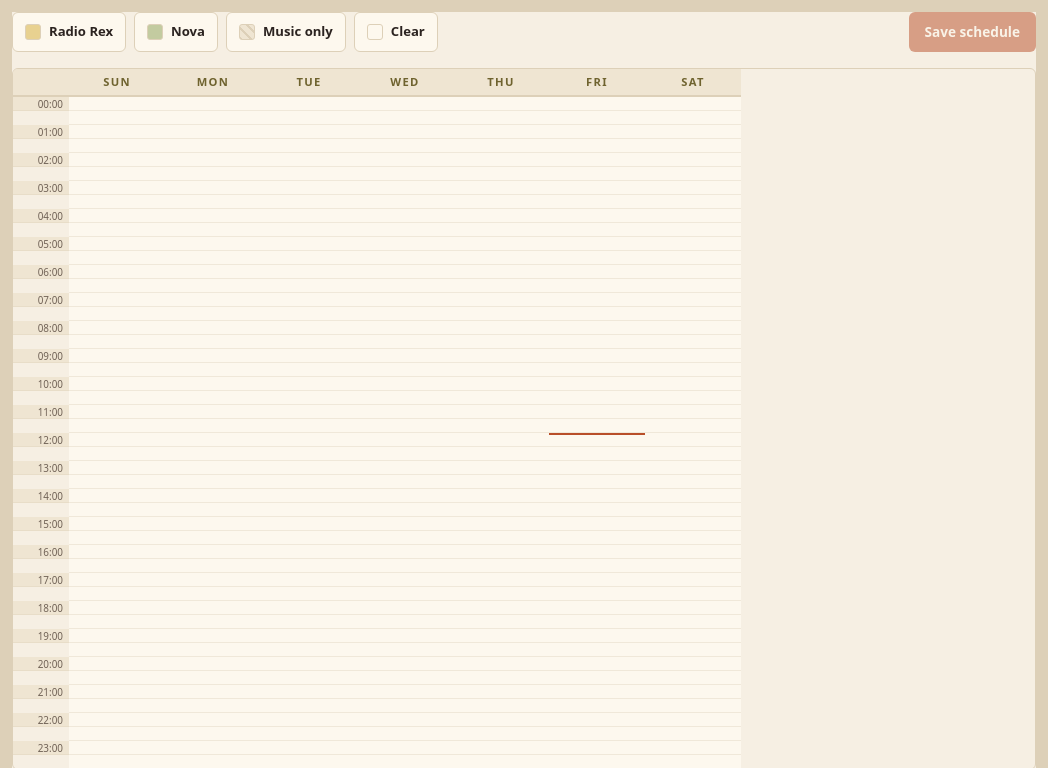
Test: Feature: Paint the week › Scenario: rejections land on cells › per-cell 400 errors highlight the offending blocks in place with the error text
Click the button "Radio Rex". click: x=69, y=32
box: [12,12,126,52]
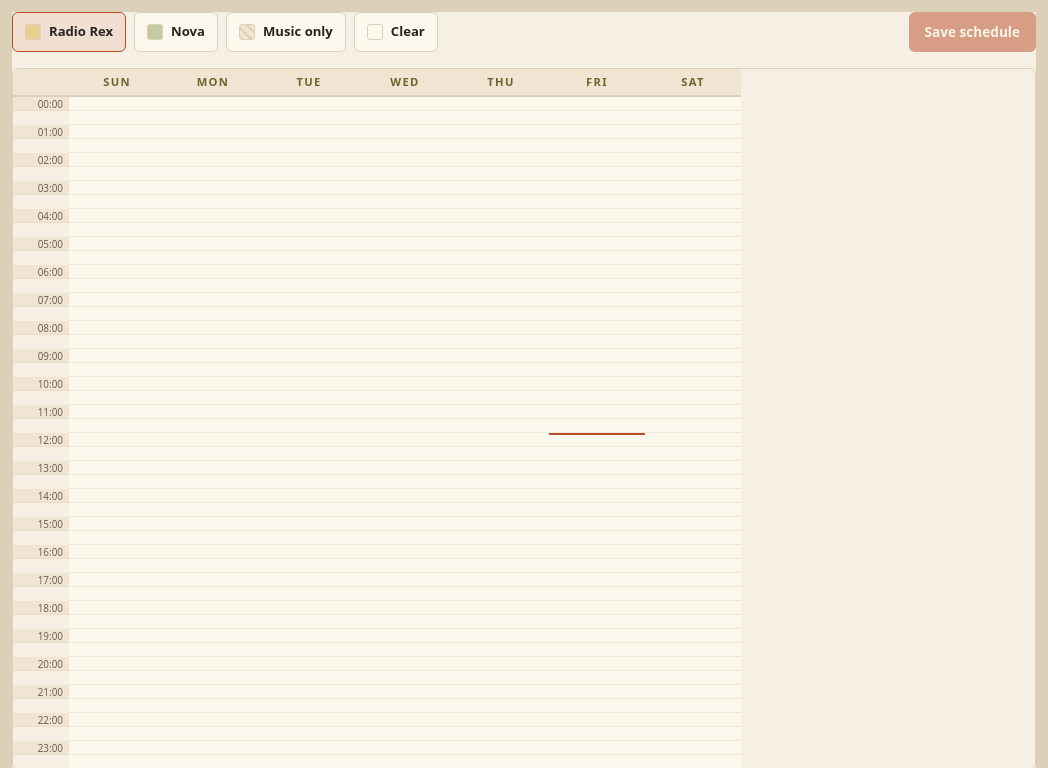
Press the mouse on the button named "Monday 00:00–00:30, empty" at x=213, y=104, box [165,97,261,111]
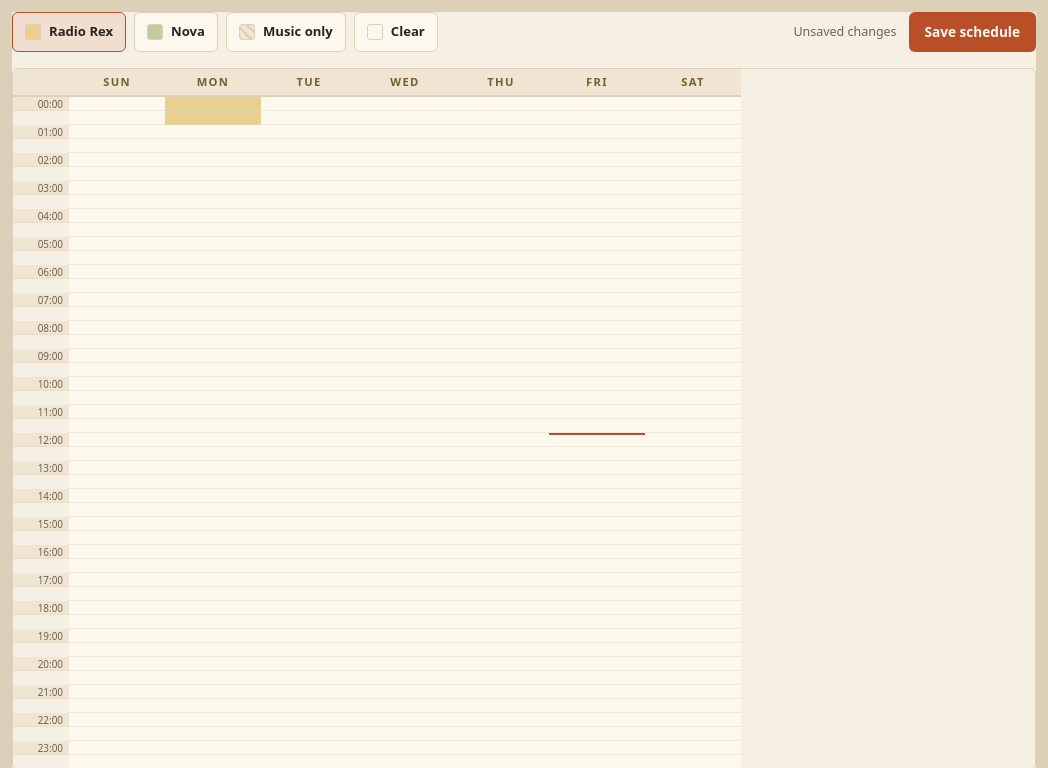
Click the button "Save schedule". click: x=972, y=32
box: [909,12,1036,52]
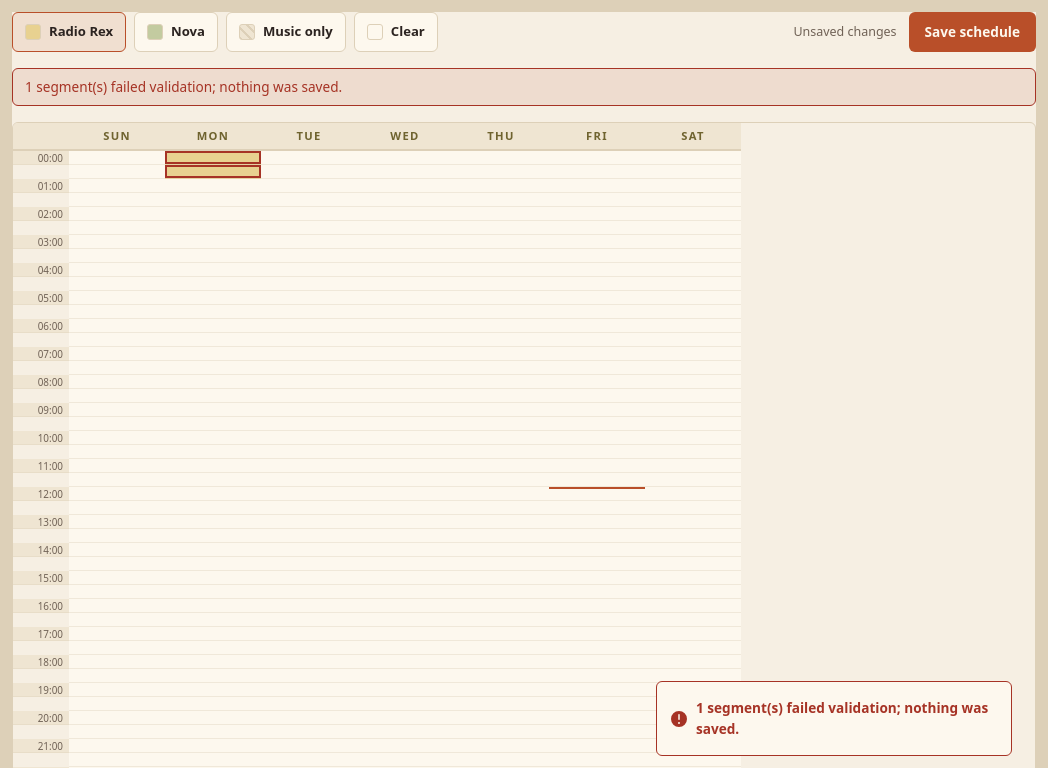
Result: the message "1 segment(s) failed validation; nothing was saved." is shown at [12,68,1036,106]
